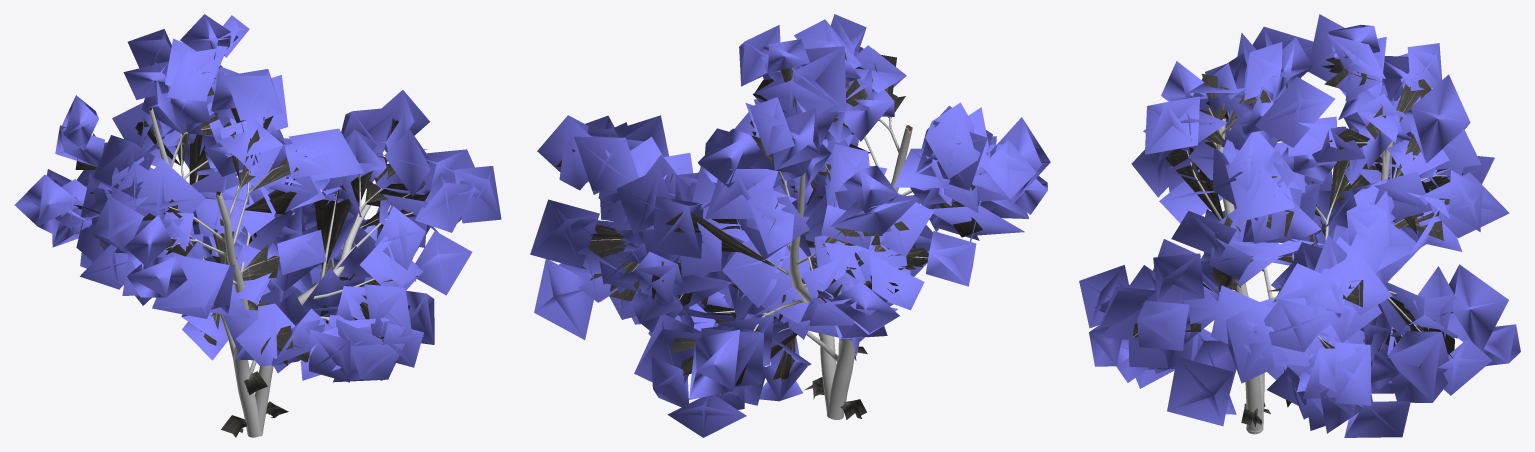
The model's file is Birch_4.fbx.
The picture shows the model from 3 angles, left to right: view 1: azimuth 30°, elevation 25°; view 2: azimuth 150°, elevation 25°; view 3: azimuth 270°, elevation 25°; orthographic projection. The views are drawn at different scales.
Parts seen in each view (by area): view 1: Birch_4; view 2: Birch_4; view 3: Birch_4.
Part boxes in pixels (left/top/right/bottom): Birch_4: left=14, top=14, right=501, bottom=437; Birch_4: left=530, top=14, right=1050, bottom=437; Birch_4: left=1079, top=14, right=1520, bottom=437.
Bounding box in the file's own units: 29.01 × 25.6 × 25.15.
